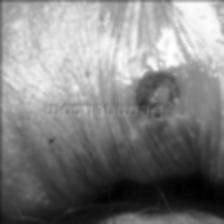Toxin: (133, 72, 177, 106)
